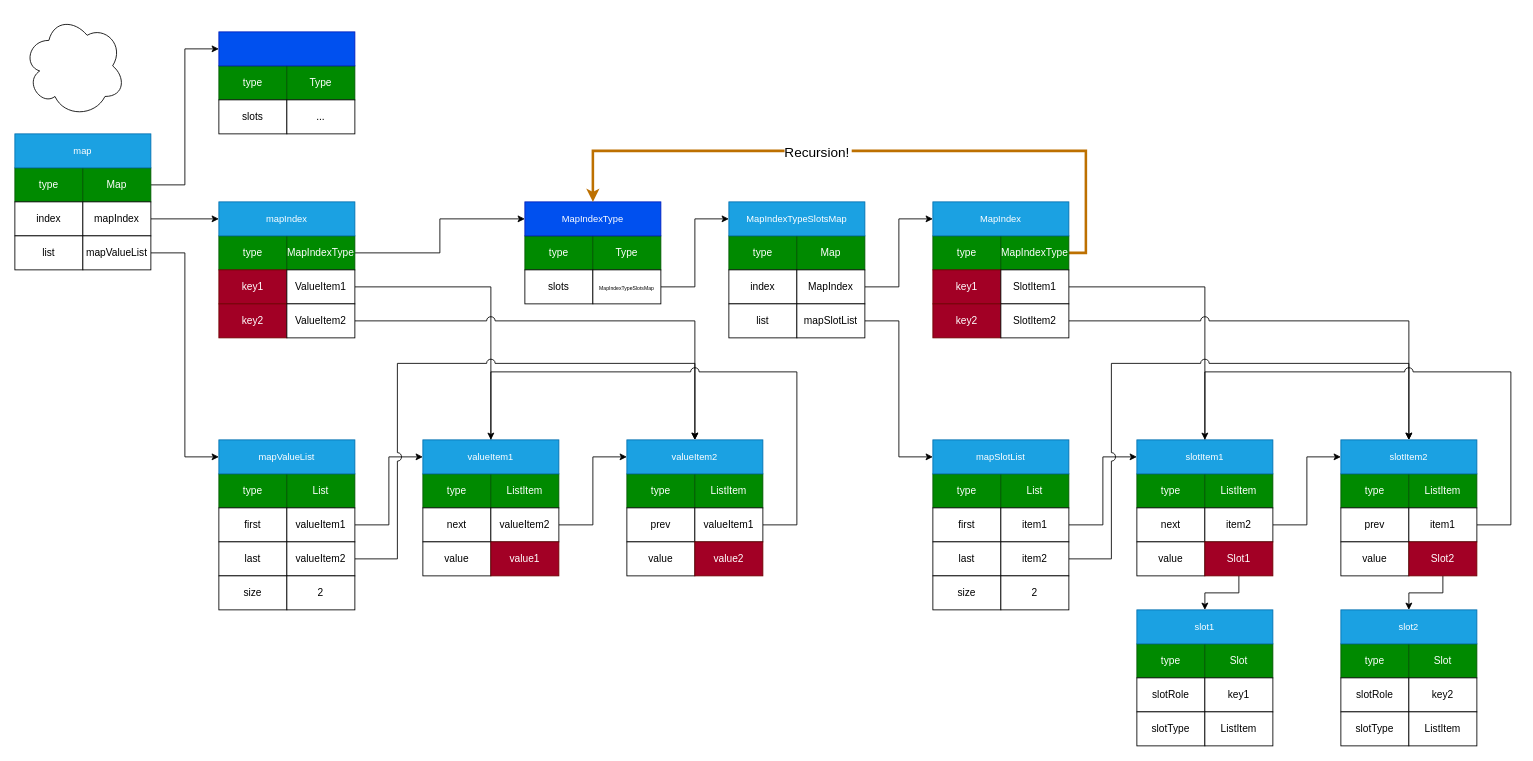
Some shapes in this 1533 by 761 pixel diagram are drawn without their labels. The shapes that lost their labels are listed below. From the top down, each one's centre as x and y in pixels, then its label:
At point (74, 65): "Storing: key1:value1 key2:value2".
At point (286, 48): "MapType<CellI, CellI>".
